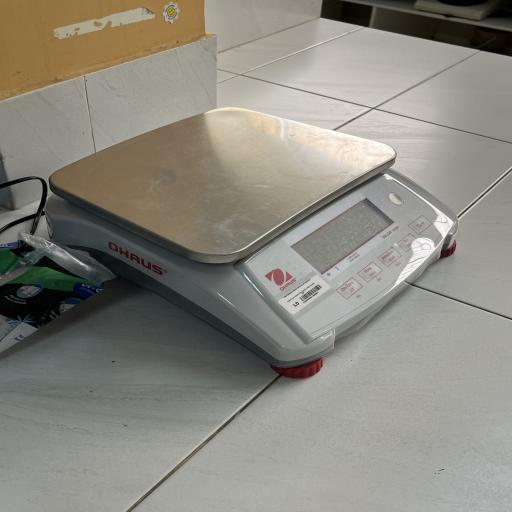Balanza_Granataria_Ohaus: (33, 100, 479, 391)
